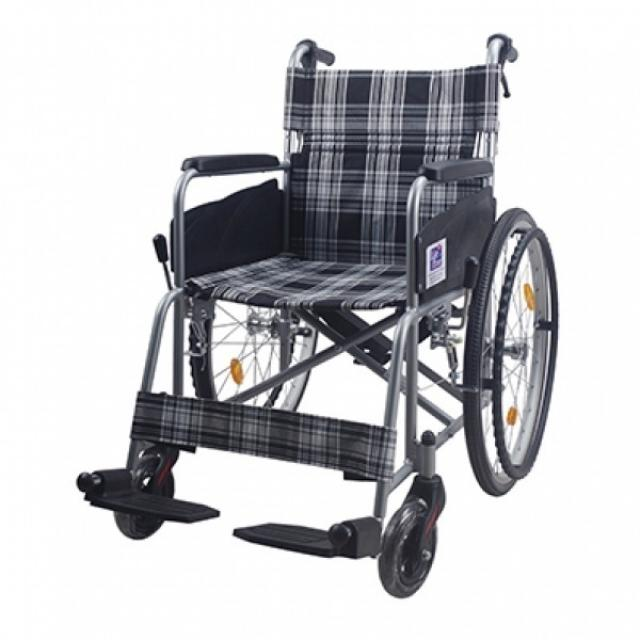wheelchair: (66, 30, 578, 596)
